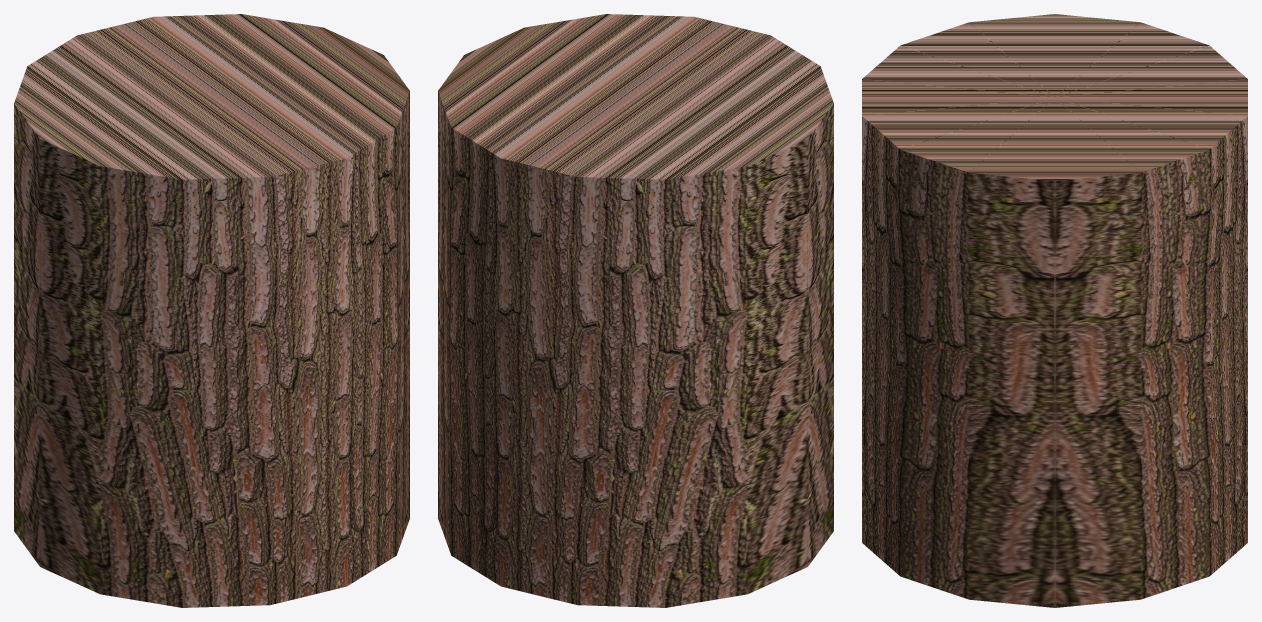
The model's file is cherrylogv.glb.
The picture shows the model from 3 angles, left to right: view 1: azimuth 30°, elevation 25°; view 2: azimuth 150°, elevation 25°; view 3: azimuth 270°, elevation 25°; orthographic projection.
Parts seen in each view (by area): view 1: Birch_Log_H_Birch; view 2: Birch_Log_H_Birch; view 3: Birch_Log_H_Birch.
Part boxes in pixels (x1,y1,x2,y2): Birch_Log_H_Birch: [14, 14, 409, 607]; Birch_Log_H_Birch: [438, 14, 833, 607]; Birch_Log_H_Birch: [862, 14, 1247, 607].
Bounding box in the file's own units: 0.84 × 1 × 0.8189.
1 material, 1 textured.
